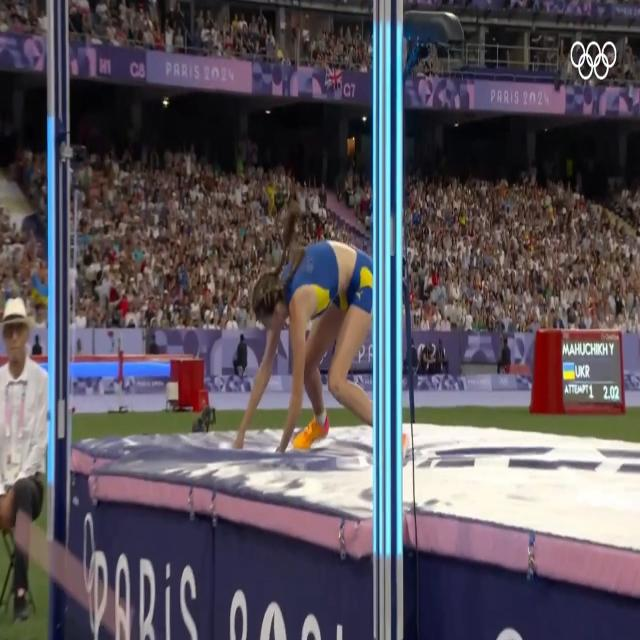land: (234, 200, 408, 463)
